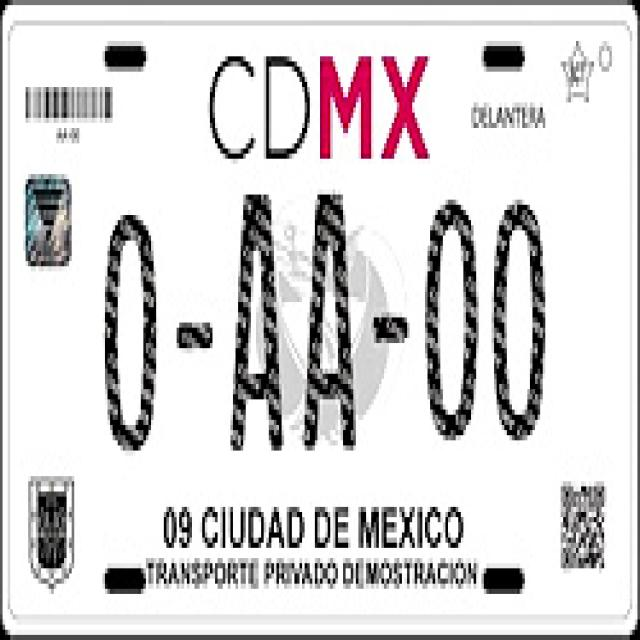placa: (89, 168, 583, 464)
